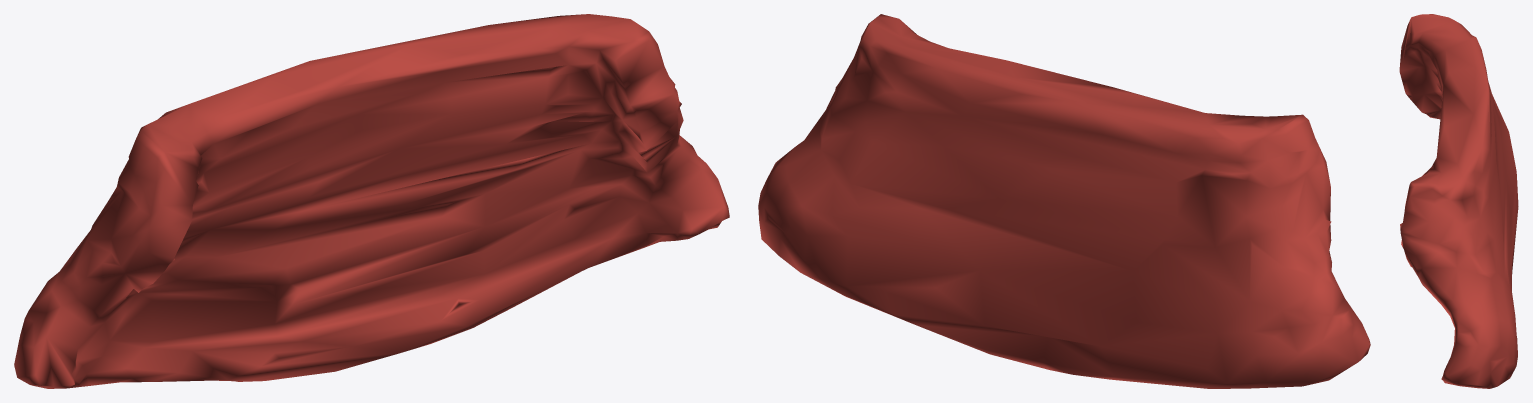
File: musculos-transverse-arytenoid-muscle.glb
3 renders of one model, left to right at view 1: azimuth 30°, elevation 25°; view 2: azimuth 150°, elevation 25°; view 3: azimuth 270°, elevation 25°, orthographic. The views are drawn at different scales.
Visible parts, largest first — view 1: Transverse arytenoid muscle; view 2: Transverse arytenoid muscle; view 3: Transverse arytenoid muscle.
Boxes of the visible parts, x1=… form: Transverse arytenoid muscle: x1=14, y1=14, x2=729, y2=388; Transverse arytenoid muscle: x1=758, y1=14, x2=1370, y2=388; Transverse arytenoid muscle: x1=1399, y1=14, x2=1518, y2=388.
Size of the model in its own units: 0.0147 by 0.00623 by 0.00306.
